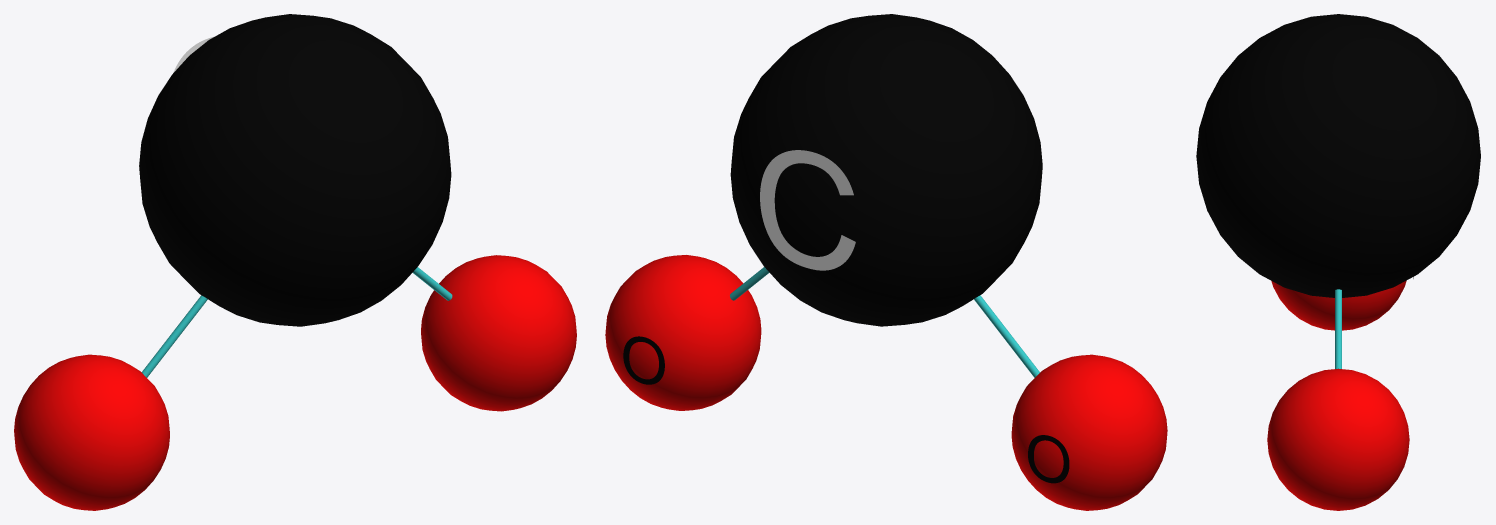
The picture shows the model from 3 angles, left to right: view 1: azimuth 30°, elevation 25°; view 2: azimuth 150°, elevation 25°; view 3: azimuth 270°, elevation 25°; orthographic projection. The views are drawn at different scales.
Parts seen in each view (by area): view 1: Sphere002, Sphere001, Sphere003, Cylinder002; view 2: Sphere002, Sphere001, Sphere003, Text002, Cylinder002, Text003, Text001; view 3: Sphere002, Sphere003, Sphere001, Cylinder001.
Boxes of the visible parts, x1,y1,x2,y2 form: Sphere002: (139, 14, 451, 326); Sphere001: (14, 354, 169, 510); Sphere003: (421, 255, 576, 411); Cylinder002: (141, 295, 207, 377); Sphere002: (730, 14, 1042, 326); Sphere001: (1011, 354, 1167, 510); Sphere003: (605, 255, 761, 410); Text002: (760, 150, 855, 270); Cylinder002: (974, 295, 1039, 377); Text003: (623, 336, 664, 384); Text001: (1028, 435, 1069, 483); Sphere002: (1196, 14, 1480, 297); Sphere003: (1267, 368, 1409, 510); Sphere001: (1271, 280, 1406, 330); Cylinder001: (1335, 289, 1341, 368).
Size of the model in its own units: 160 by 120 by 80.16.
